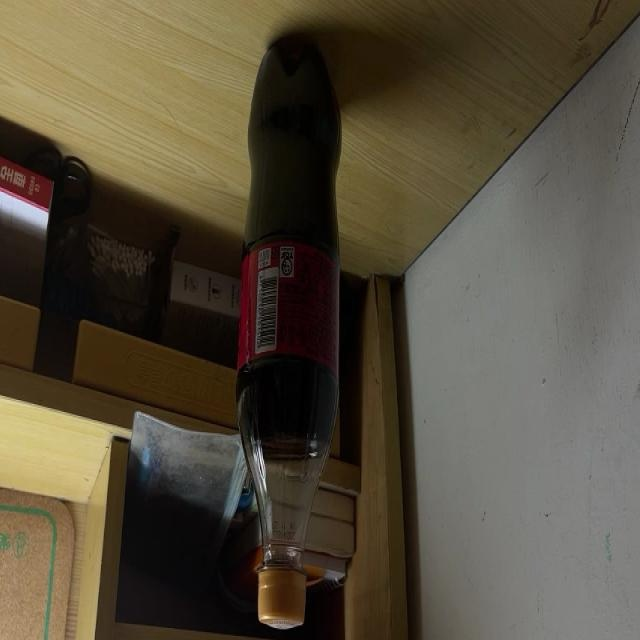Coca-Cola: (236, 31, 345, 630)
